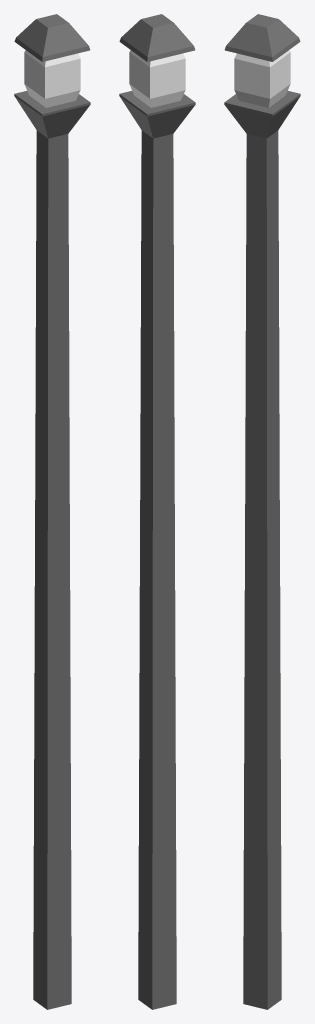
File: M_Lantern_Building_0.fbx
The picture shows the model from 3 angles, left to right: view 1: azimuth 30°, elevation 25°; view 2: azimuth 210°, elevation 25°; view 3: azimuth 330°, elevation 25°; orthographic projection.
Parts seen in each view (by area): view 1: M_Lantern_Building_0; view 2: M_Lantern_Building_0; view 3: M_Lantern_Building_0.
Boxes of the visible parts, x1,y1,x2,y2 form: M_Lantern_Building_0: [14, 14, 90, 1009]; M_Lantern_Building_0: [119, 14, 195, 1009]; M_Lantern_Building_0: [224, 14, 300, 1009].
Size of the model in its own units: 21.74 by 420 by 21.74.
